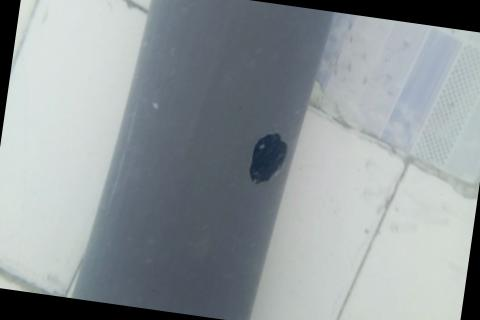kebocoran: (244, 127, 291, 188)
